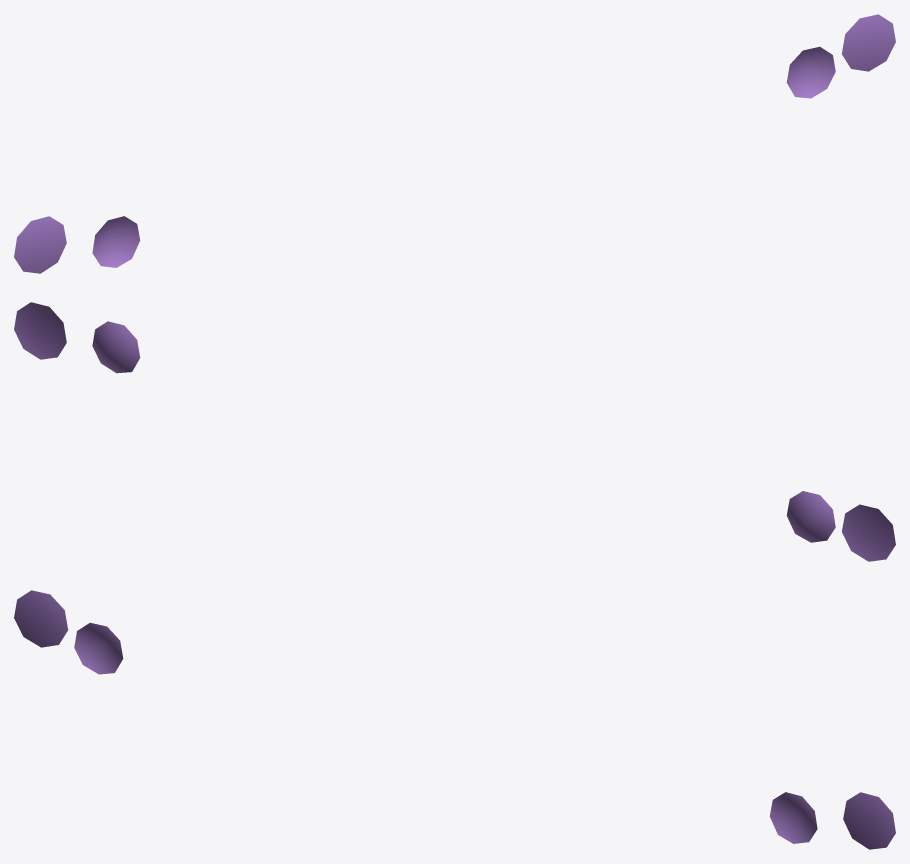
The model's file is RX7_FB01_Detail.fbx.
The picture shows the model from 3 angles, top to bottom: view 1: azimuth 30°, elevation 25°; view 2: azimuth 150°, elevation 25°; view 3: azimuth 330°, elevation 25°; orthographic projection.
Parts seen in each view (by area): view 1: RX7_FB01_Detail; view 2: RX7_FB01_Detail; view 3: RX7_FB01_Detail.
Part boxes in pixels (x1,y1,x2,y2): RX7_FB01_Detail: [14, 14, 895, 273]; RX7_FB01_Detail: [14, 302, 895, 561]; RX7_FB01_Detail: [14, 590, 895, 849].
Size of the model in its own units: 138 by 8.85 by 3.37.
